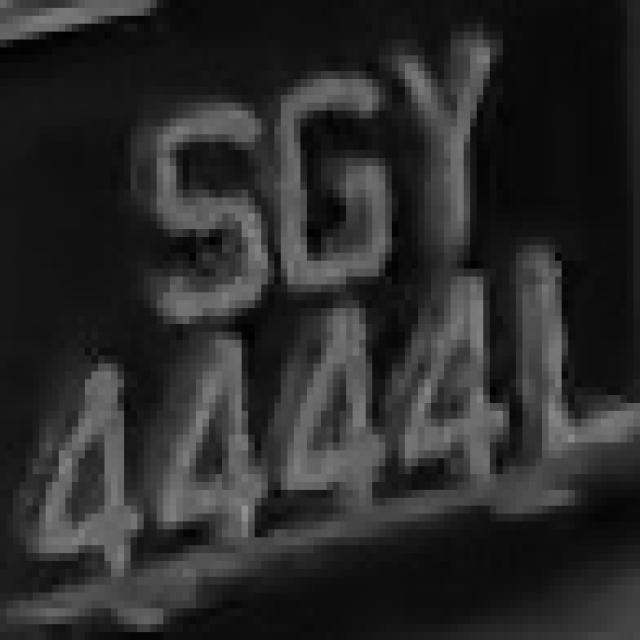4: (248, 285, 392, 545), (379, 292, 522, 553), (13, 356, 150, 616), (131, 332, 261, 585)
G: (262, 40, 398, 300)
L: (518, 236, 640, 472), (5, 2, 7, 6)
S: (130, 87, 268, 340)
Y: (379, 32, 516, 268)
